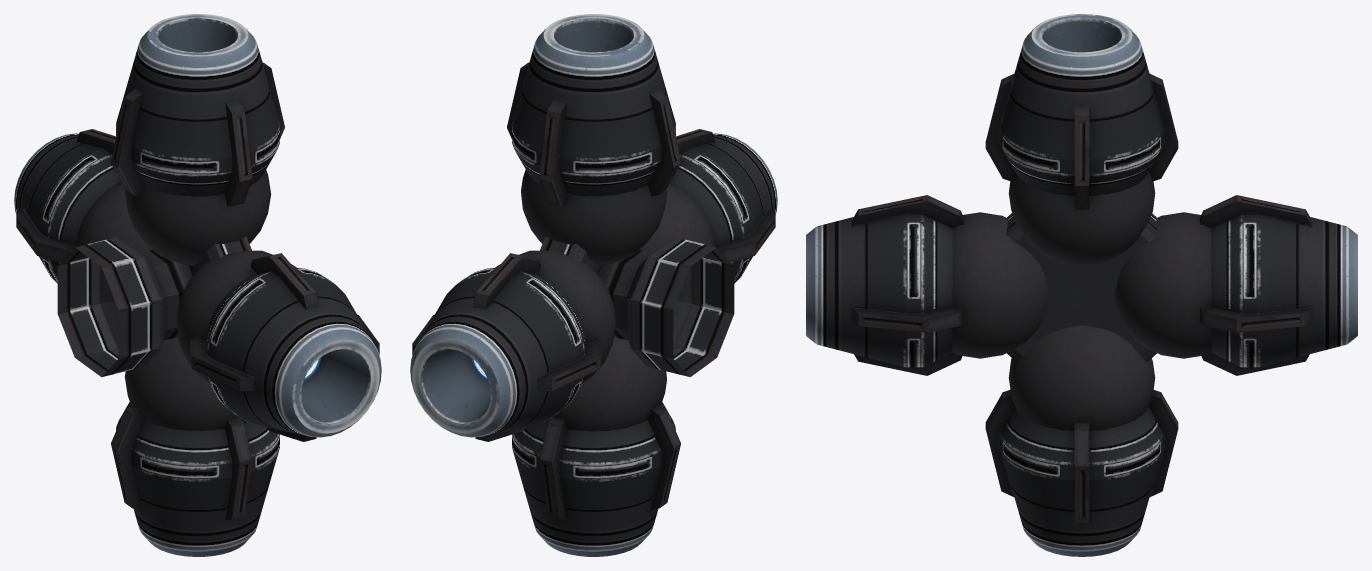
Rendered from ManeuveringThrusterArray3Static.fbx.
3 renders of one model, left to right at view 1: azimuth 30°, elevation 25°; view 2: azimuth 150°, elevation 25°; view 3: azimuth 270°, elevation 25°, orthographic.
Parts seen in each view (by area): view 1: ManeuveringThrusterArray3Static; view 2: ManeuveringThrusterArray3Static; view 3: ManeuveringThrusterArray3Static.
Part boxes in pixels (box(x1,y1,x2,y2)): ManeuveringThrusterArray3Static: box(14, 14, 381, 556); ManeuveringThrusterArray3Static: box(410, 14, 777, 556); ManeuveringThrusterArray3Static: box(806, 14, 1357, 556).
Bounding box in the file's own units: 12.94 × 31.99 × 31.99.
